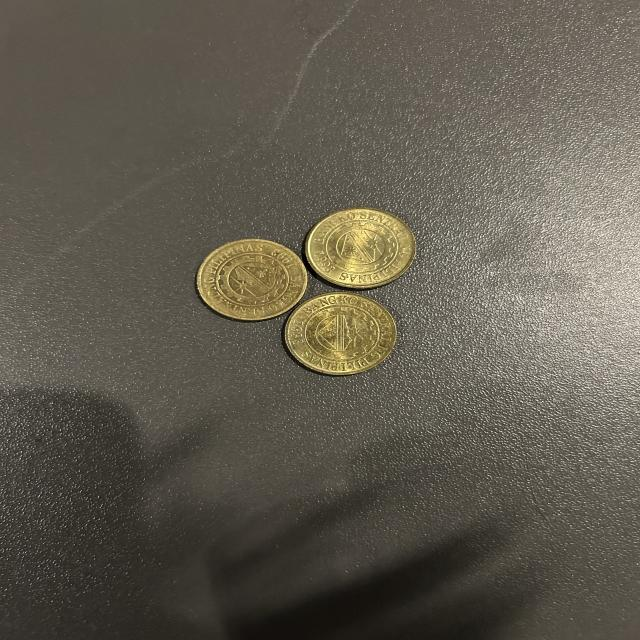25Cent_Old_Back: (302, 205, 419, 292), (281, 291, 397, 378), (194, 240, 306, 321)
